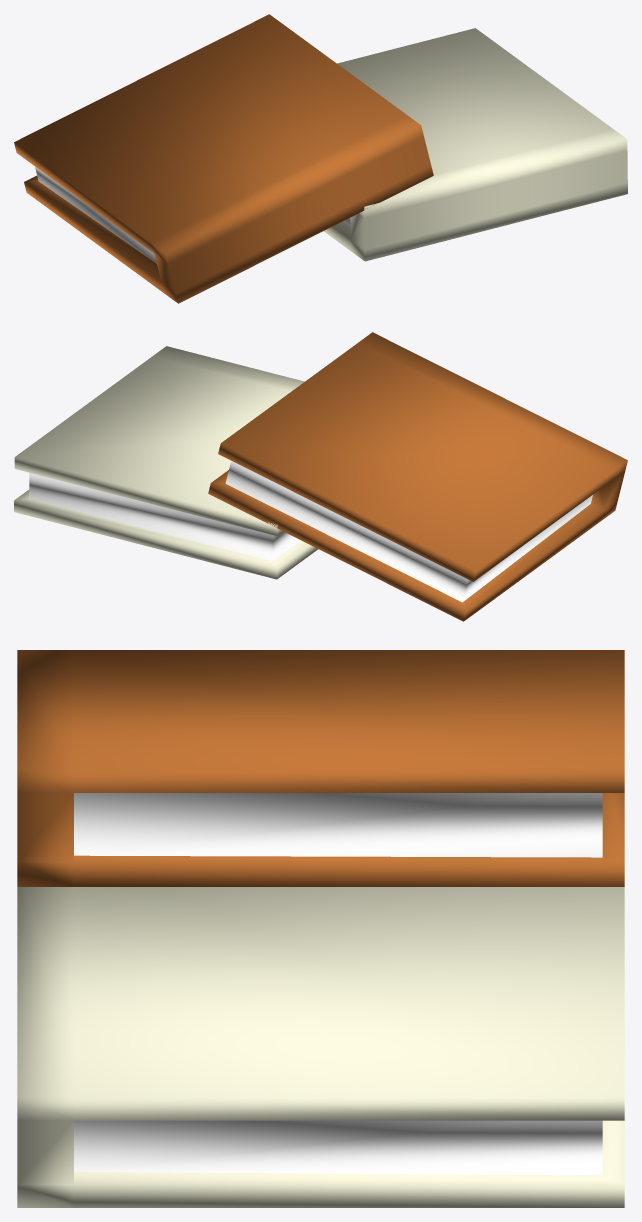
File: Props_Book_06.fbx
The picture shows the model from 3 angles, top to bottom: view 1: azimuth 30°, elevation 25°; view 2: azimuth 150°, elevation 25°; view 3: azimuth 270°, elevation 25°; orthographic projection. The views are drawn at different scales.
Parts seen in each view (by area): view 1: Props_Book_06; view 2: Props_Book_06; view 3: Props_Book_06.
Boxes of the visible parts, <box> form: Props_Book_06: <box>14,14,627,303</box>; Props_Book_06: <box>14,332,627,621</box>; Props_Book_06: <box>17,650,624,1207</box>.
Bounding box in the file's own units: 88.9 × 22.52 × 50.6.
